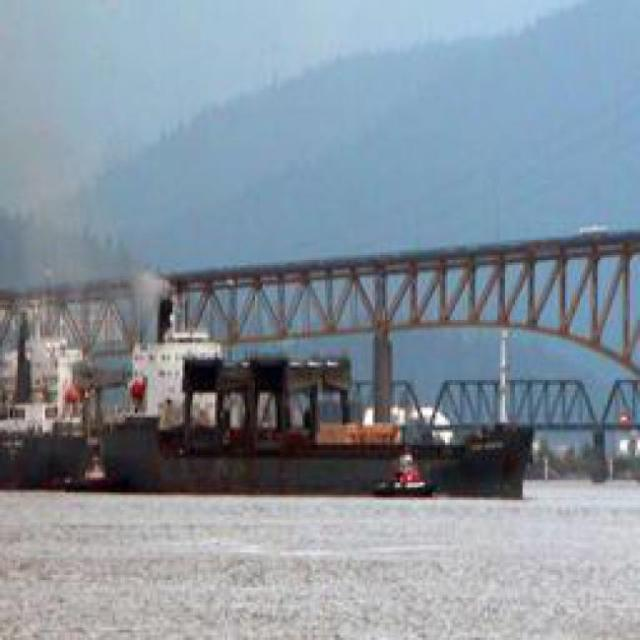boat: (8, 350, 531, 507)
